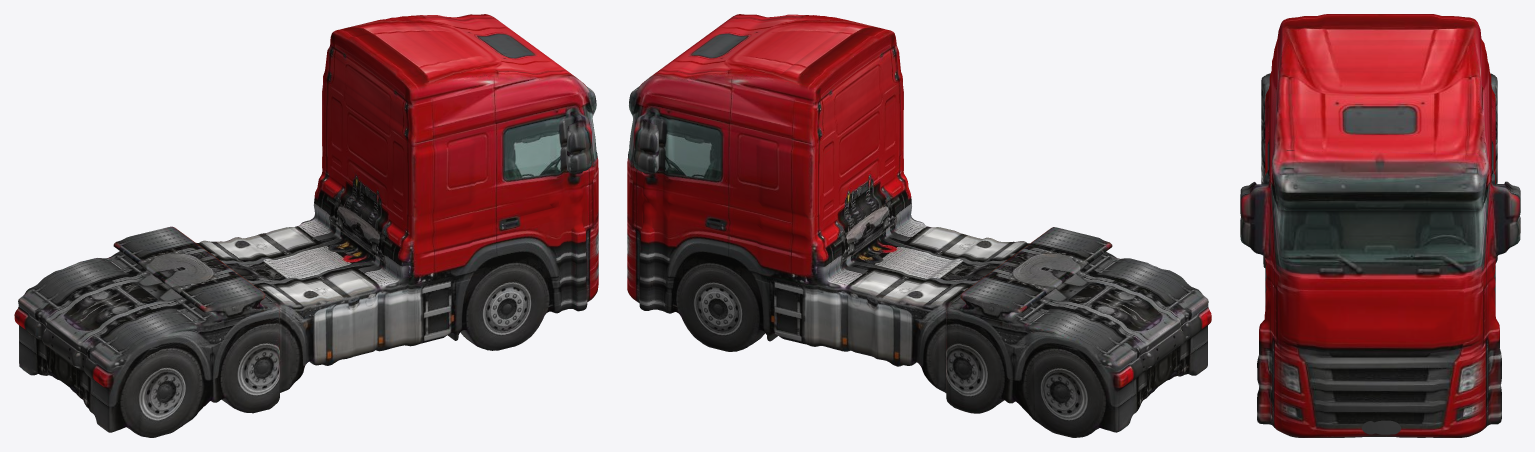
The model's file is tractor_mobile.glb.
3 views of the same model, side by side, from view 1: azimuth 30°, elevation 25°; view 2: azimuth 150°, elevation 25°; view 3: azimuth 270°, elevation 25° (orthographic). The views are drawn at different scales.
Parts seen in each view (by area): view 1: tractor; view 2: tractor; view 3: tractor.
Boxes of the visible parts, x1,y1,x2,y2 form: tractor: (14,14,598,437); tractor: (627,14,1211,437); tractor: (1240,14,1520,437).
Size of the model in its own units: 6.89 by 3.65 by 2.68.
Materials: 1 (1 with a texture image).
